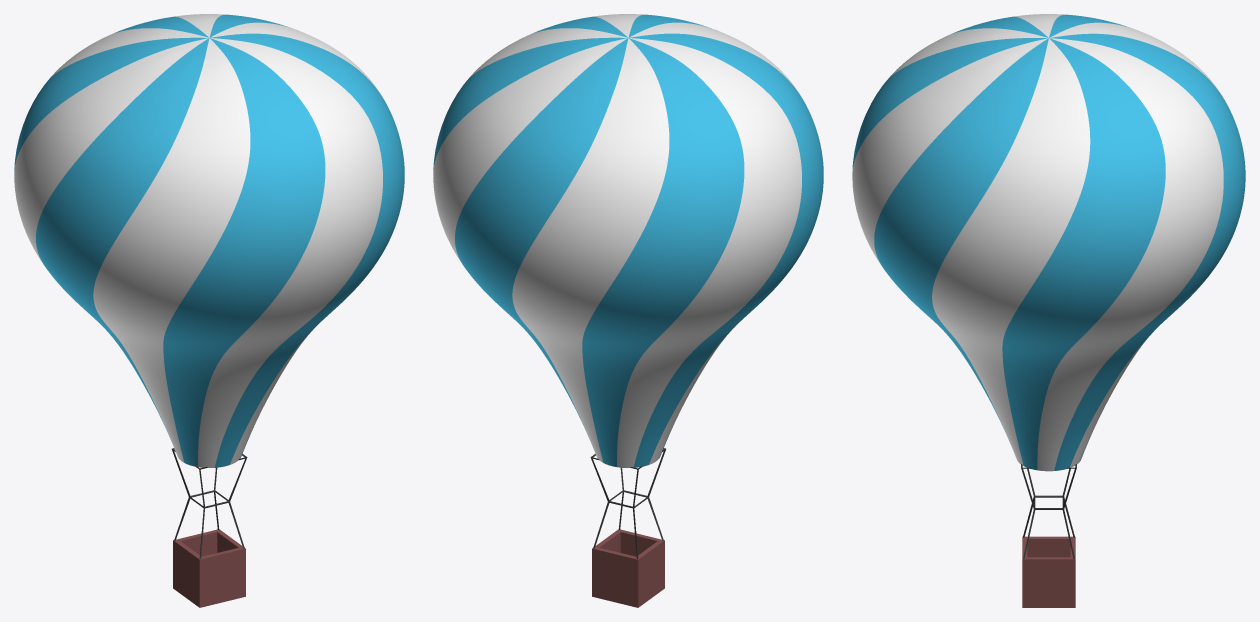
The model's file is balloonBlue-BMuptsql.glb.
3 views of the same model, side by side, from view 1: azimuth 30°, elevation 25°; view 2: azimuth 150°, elevation 25°; view 3: azimuth 270°, elevation 25° (orthographic).
Parts seen in each view (by area): view 1: Cube_1; view 2: Cube_1; view 3: Cube_1.
Part boxes in pixels (x1,y1,x2,y2): Cube_1: (14, 14, 404, 607); Cube_1: (433, 14, 823, 607); Cube_1: (852, 14, 1245, 607).
Size of the model in its own units: 3.26 by 5.1 by 3.26.
